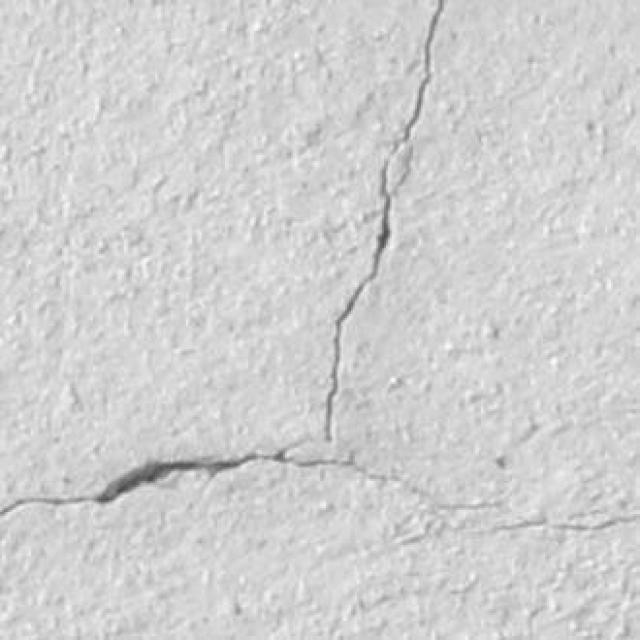crack: (324, 0, 444, 442), (0, 445, 500, 517), (480, 512, 639, 533)
